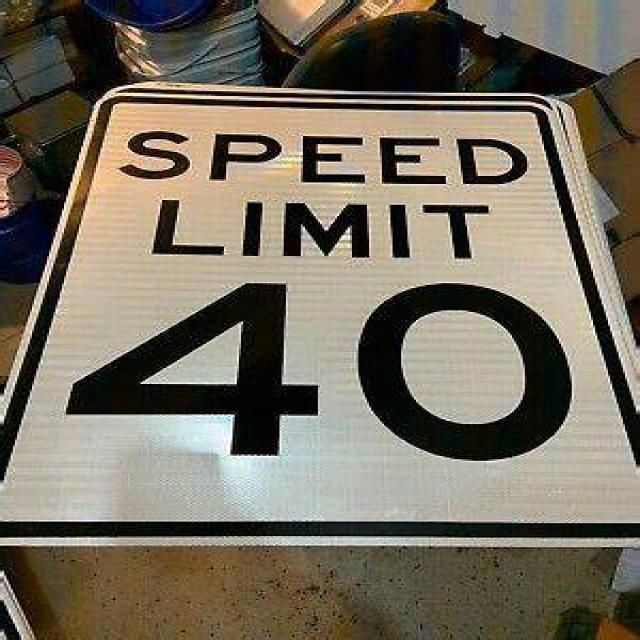speedLimit40: (6, 92, 638, 538)
